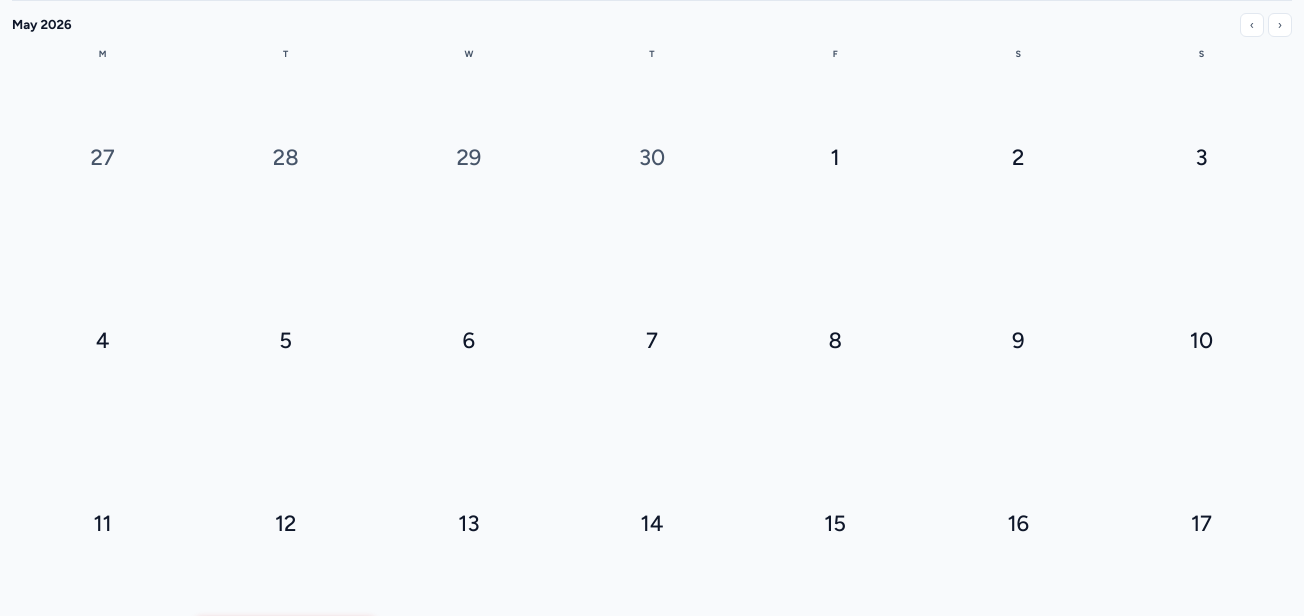
Test: MiniCalendar › advances to the next month when the next-month button is clicked
Click the button named "next month": (1280, 25) [1268, 13, 1292, 37]
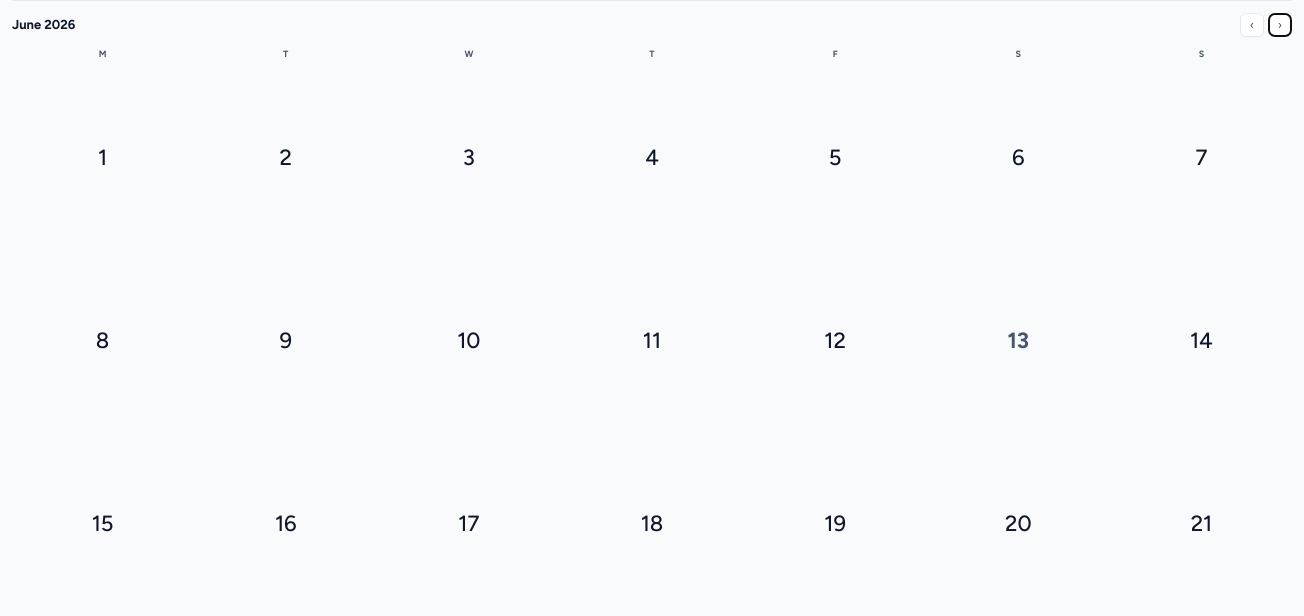
Now the text "June 2026" is shown, box [12, 15, 75, 35]
